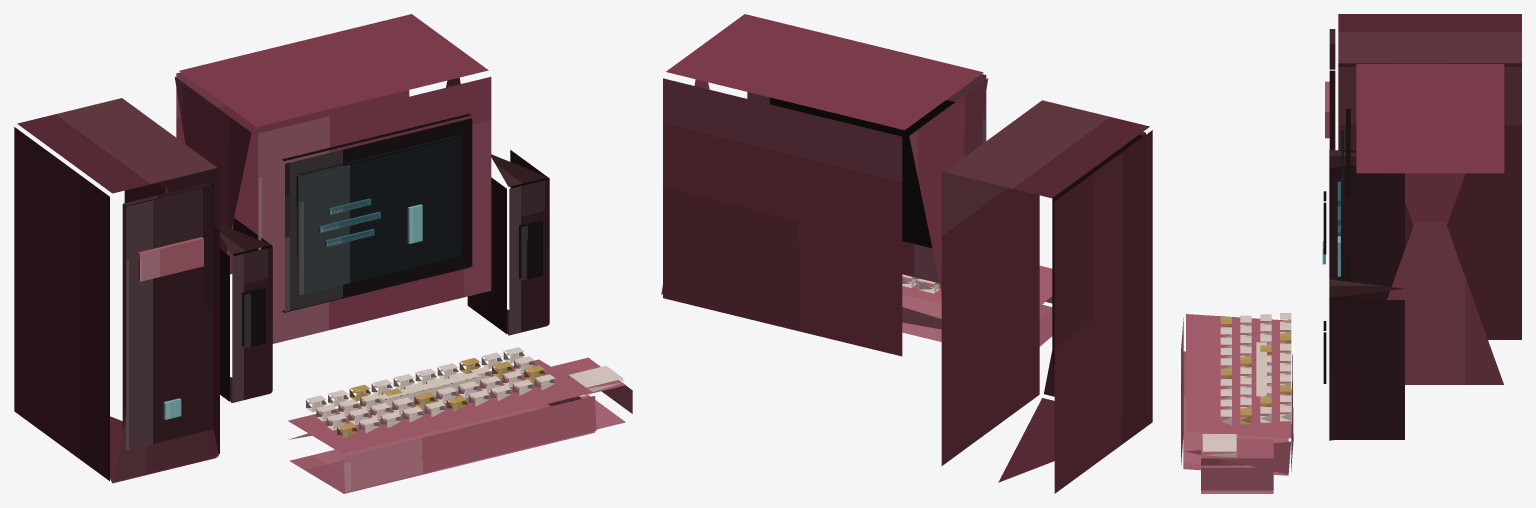
File: retro_computer_tower_burgundy.glb
3 renders of one model, left to right at view 1: azimuth 30°, elevation 25°; view 2: azimuth 150°, elevation 25°; view 3: azimuth 270°, elevation 25°, orthographic. The views are drawn at different scales.
Parts seen in each view (by area): view 1: MonitorShell, Tower, TowerFace, MonitorGlow, KeyboardBody, MonitorFace, Speaker_R, Speaker_L, DriveBay, Mouse, SpeakerCone_L, SpeakerCone_R (+2 smaller); view 2: MonitorShell, Tower, MonitorFace, KeyboardBody, TowerFace; view 3: MonitorShell, Tower, Speaker_R, KeyboardBody, Speaker_L, Mouse, TowerFace, MouseButton, MonitorFace, SpaceBar.
Part boxes in pixels (x1,y1,x2,y2): MonitorShell: [174, 14, 491, 343]; Tower: [14, 98, 219, 483]; TowerFace: [122, 182, 213, 450]; MonitorGlow: [296, 135, 462, 295]; KeyboardBody: [288, 359, 596, 493]; MonitorFace: [282, 114, 472, 312]; Speaker_R: [467, 150, 549, 335]; Speaker_L: [220, 218, 272, 403]; DriveBay: [138, 237, 203, 281]; Mouse: [548, 357, 632, 429]; SpeakerCone_L: [242, 287, 265, 348]; SpeakerCone_R: [519, 220, 542, 280]; MonitorShell: [661, 14, 988, 356]; Tower: [941, 100, 1152, 493]; MonitorFace: [770, 97, 954, 248]; KeyboardBody: [902, 265, 1052, 346]; TowerFace: [1052, 132, 1145, 364]; MonitorShell: [1356, 64, 1504, 384]; Tower: [1338, 14, 1521, 339]; Speaker_R: [1329, 279, 1404, 440]; KeyboardBody: [1181, 314, 1293, 475]; Speaker_L: [1329, 149, 1404, 279]; Mouse: [1201, 439, 1273, 493]; TowerFace: [1329, 29, 1335, 150]; MouseButton: [1202, 434, 1236, 457]; MonitorFace: [1346, 109, 1350, 279]; SpaceBar: [1256, 342, 1266, 396].
Bounding box in the file's own units: 1.27 × 0.84 × 0.8659.
1 material, 1 textured.
